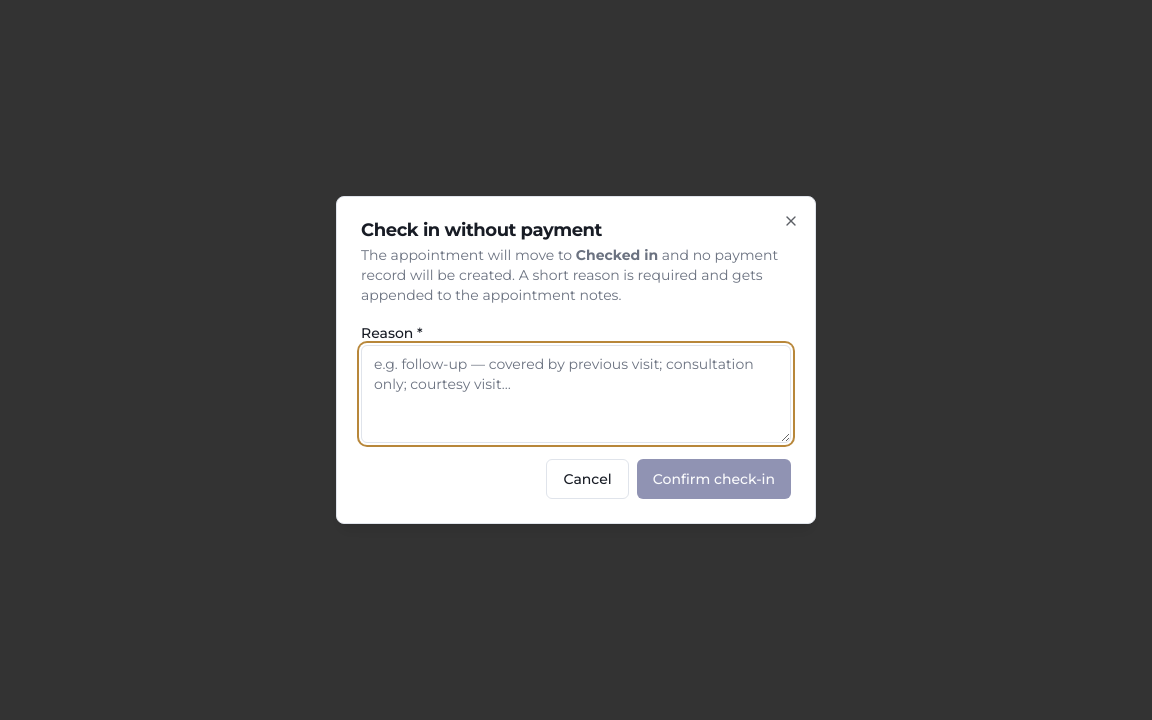
Test: check in without payment › needs a real reason (the server wants at least 3 characters)
Expected: the button "Confirm check-in" is disabled, [637,459,791,499]
Replace the text in the text box labelled "Reason *" with "ok" at [576, 394], box [361,345,791,443]
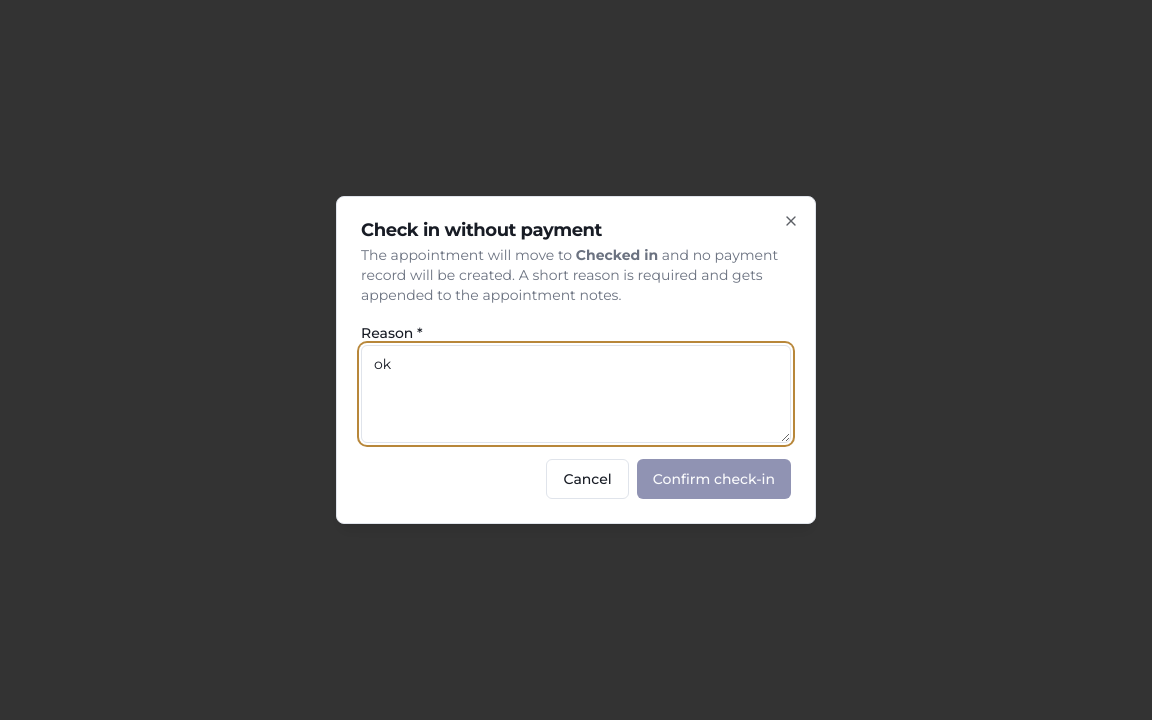
Expected: the button "Confirm check-in" is disabled, [637,459,791,499]
Replace the text in the text box labelled "Reason *" with "follow-up" at [576, 394], box [361,345,791,443]
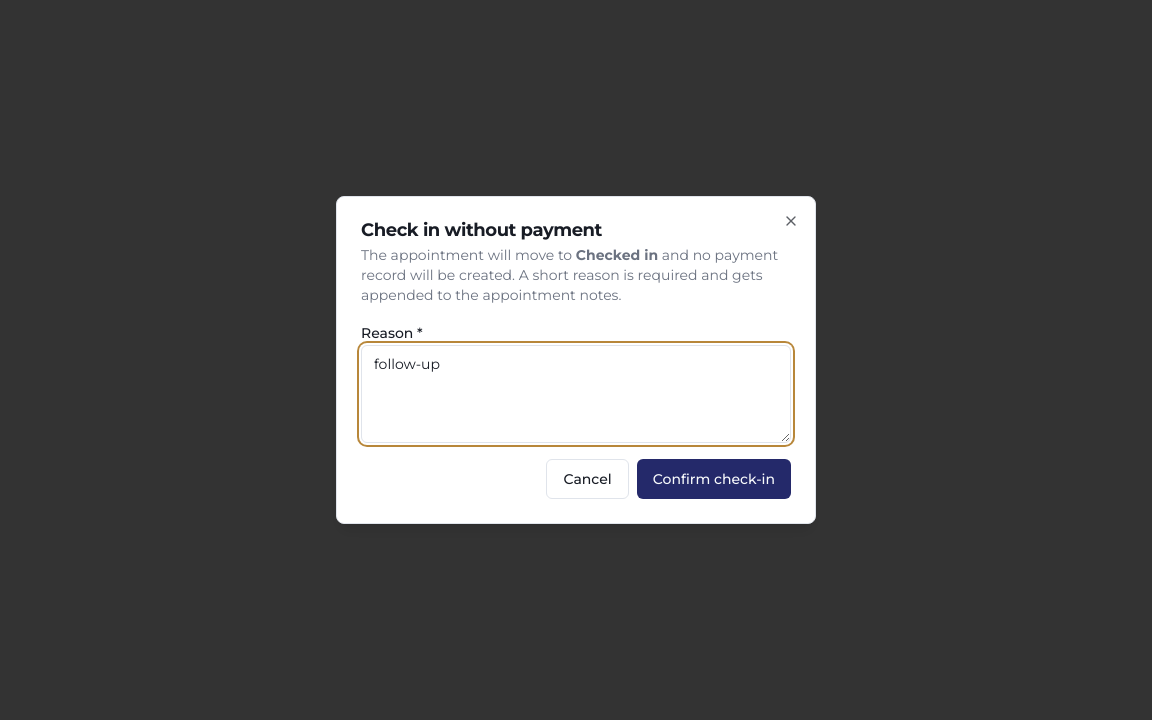
Result: the button "Confirm check-in" is enabled at [637,459,791,499]
